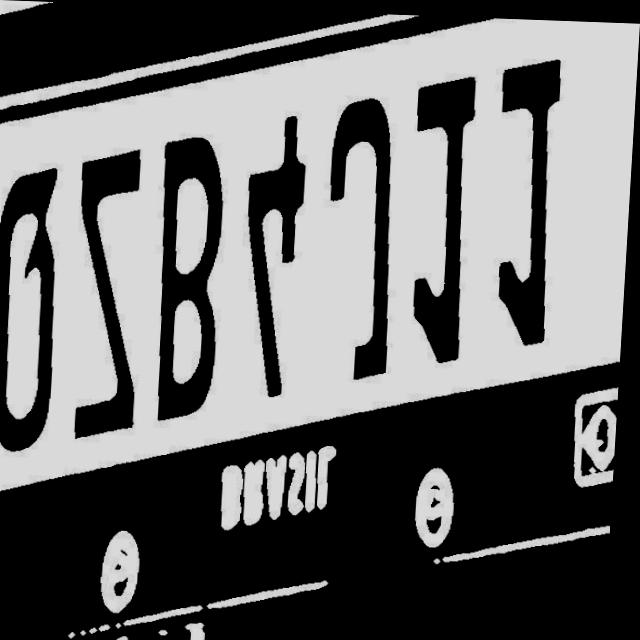1: (489, 48, 568, 364), (405, 69, 482, 372)
4: (236, 97, 321, 405)
b: (152, 118, 238, 435)
j: (320, 79, 409, 401)
q: (0, 163, 79, 460)
z: (70, 141, 150, 445)
